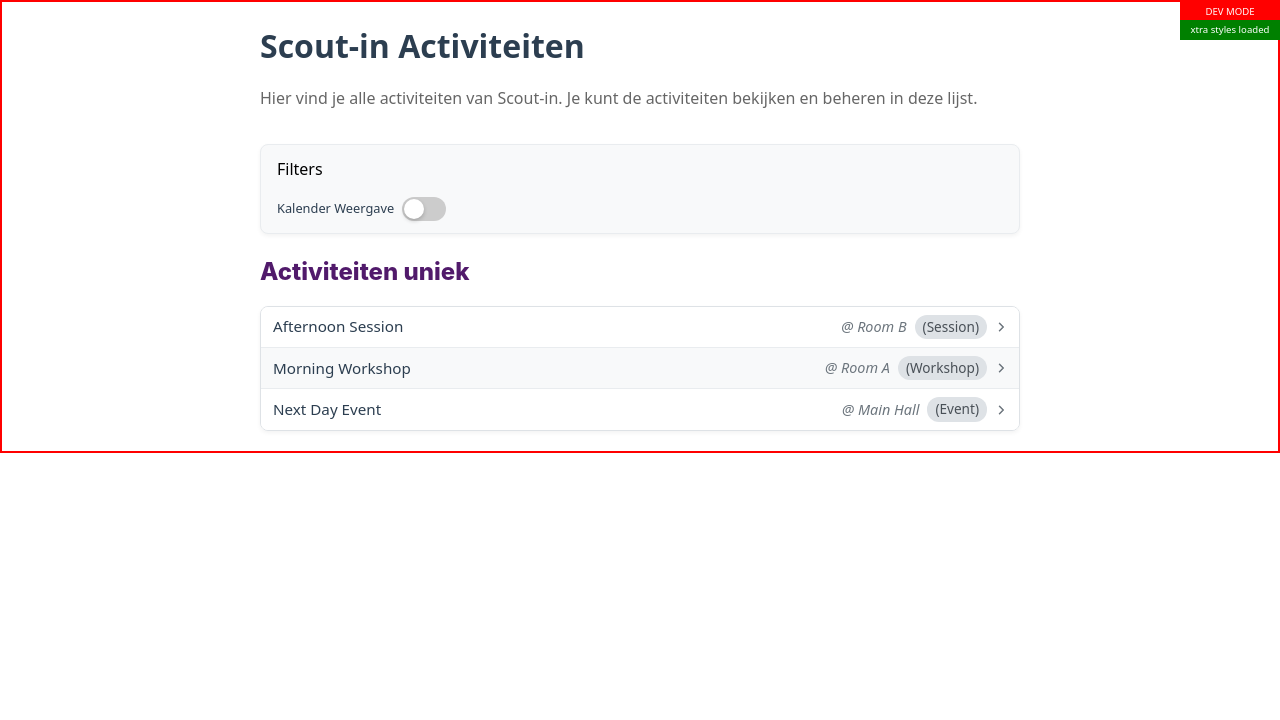
Test: ActivitiesListPage › groups activities by day correctly when in detailed view
The image size is (1280, 720).
expect the heading "Scout-in Activiteiten" is shown: met, box top-left (260, 24), bottom-right (585, 67)
// First click the toggle button to switch to detailed view
Click the switch named "Schakel tussen lijst en kalender weergave" at (424,209), box top-left (402, 197), bottom-right (446, 221)
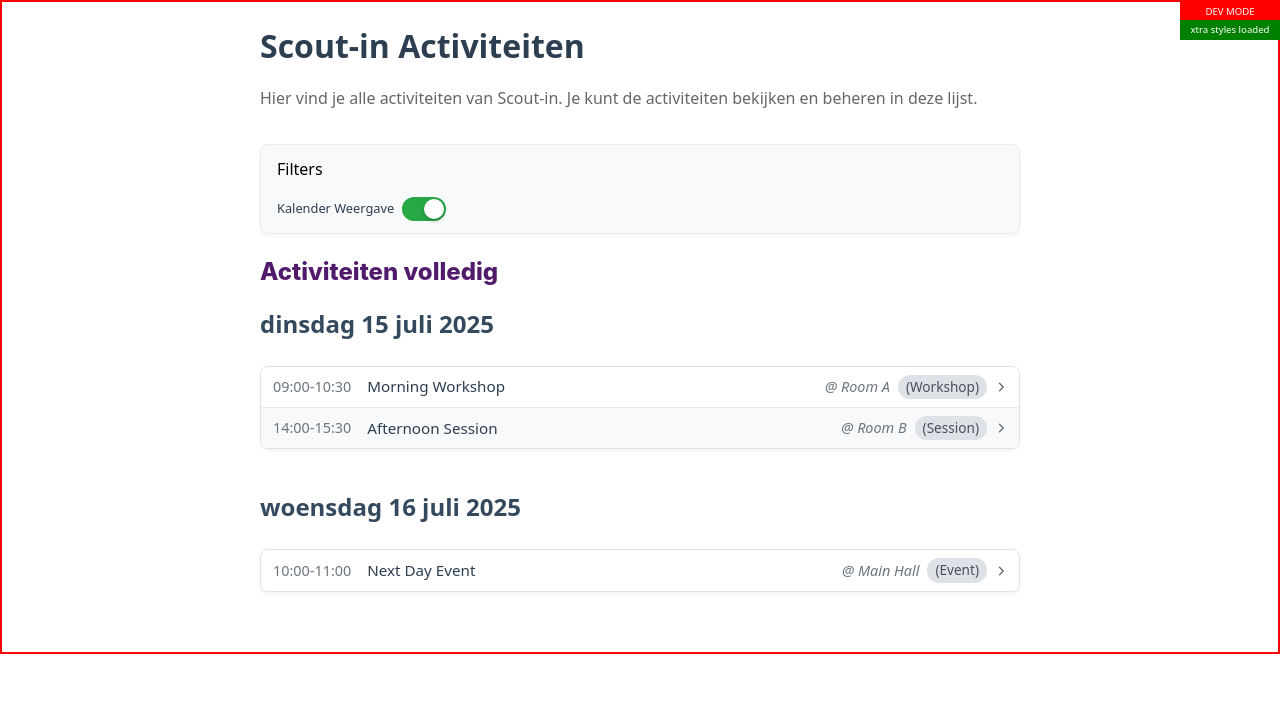
expect the text "Next Day Event" is shown: met, box top-left (367, 560), bottom-right (475, 580)
expect the text "Morning Workshop" is shown: met, box top-left (367, 376), bottom-right (505, 396)
expect the text "Afternoon Session" is shown: met, box top-left (367, 418), bottom-right (498, 438)
